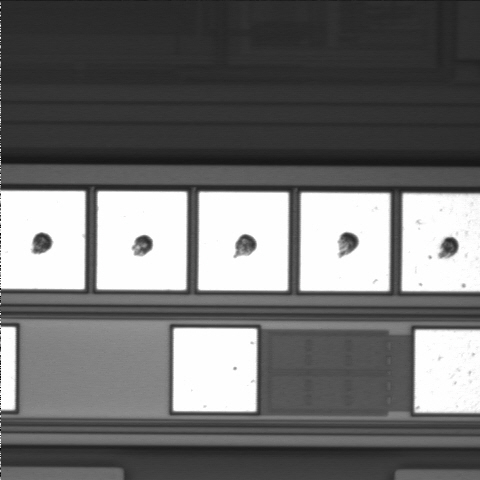pad: (97, 191, 187, 290), (198, 192, 288, 291), (300, 193, 390, 291), (173, 328, 257, 412)
